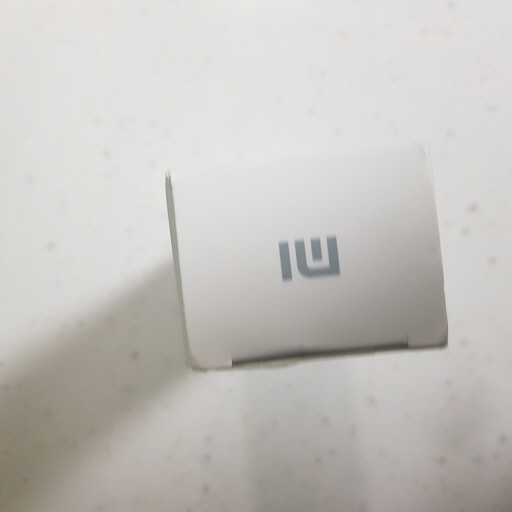Paper_0: (158, 141, 458, 375)
